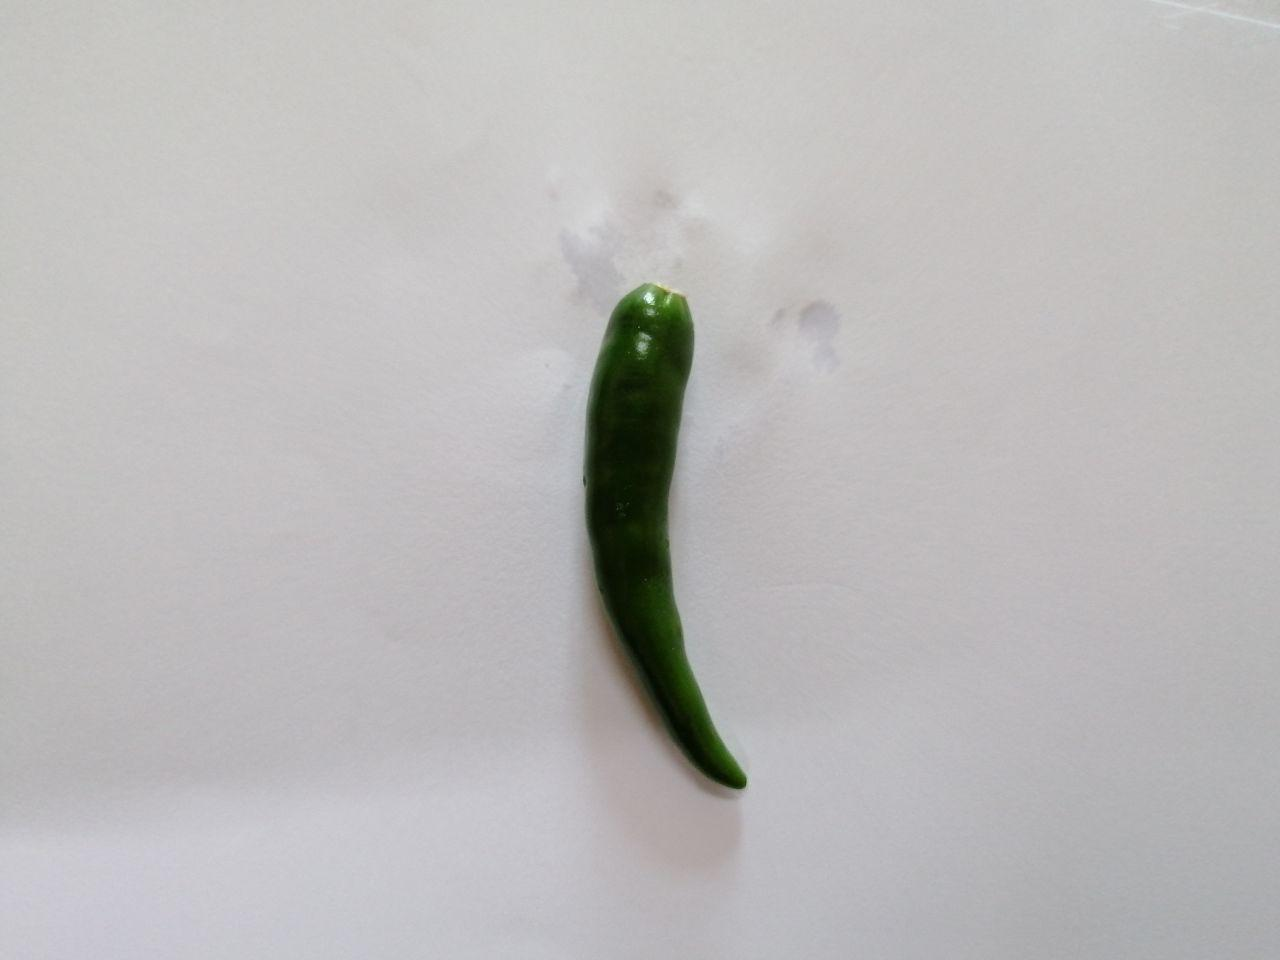lada hijau: (565, 265, 772, 803)
